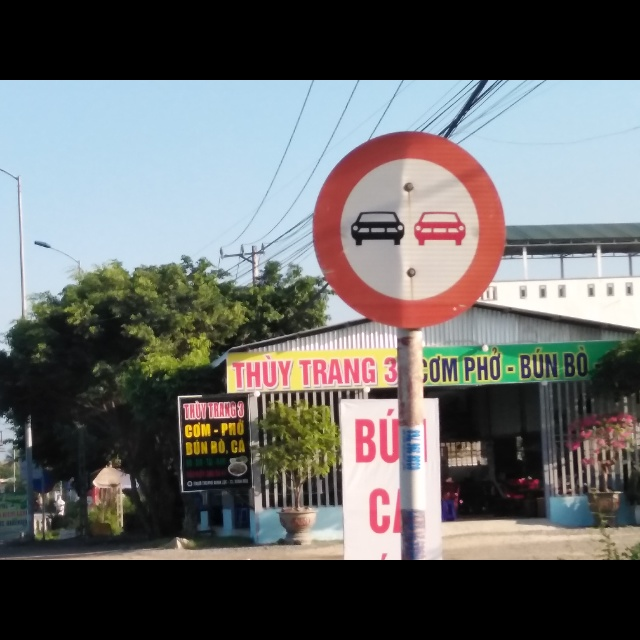Cấm vượt: (311, 132, 508, 332)
